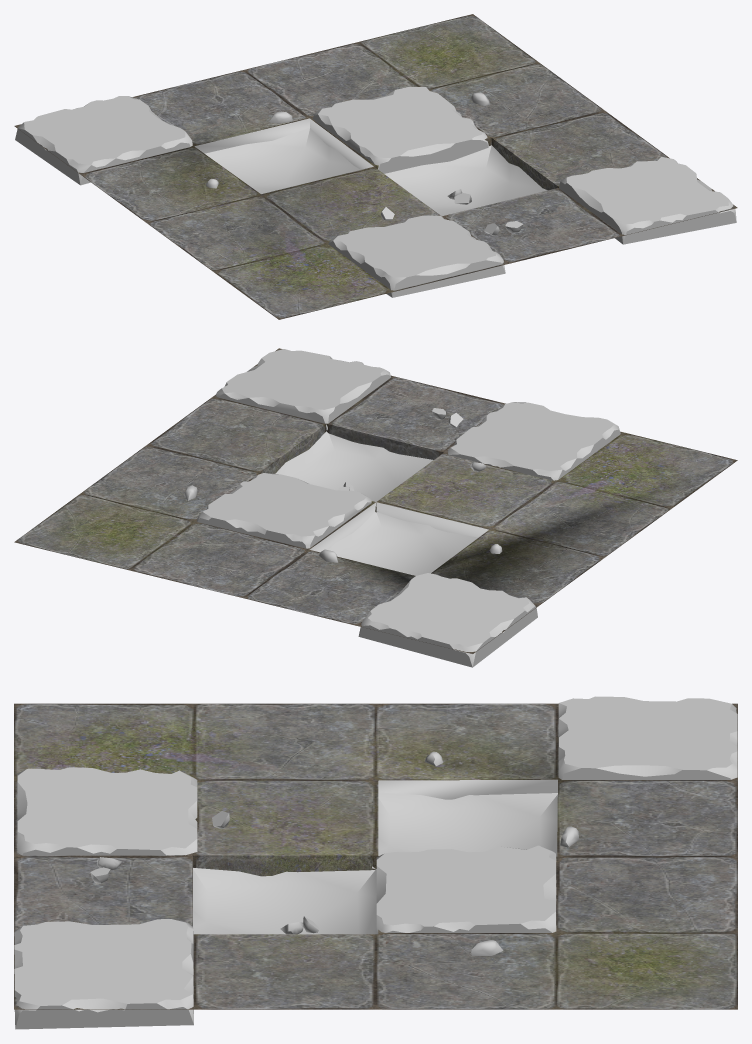
Rendered from Floor_Lvl2_9.fbx.
3 views of the same model, one above another, from view 1: azimuth 30°, elevation 25°; view 2: azimuth 150°, elevation 25°; view 3: azimuth 270°, elevation 25° (orthographic). The views are drawn at different scales.
Parts seen in each view (by area): view 1: StoneFloor.006; view 2: StoneFloor.006; view 3: StoneFloor.006.
Boxes of the visible parts, x1,y1,x2,y2 form: StoneFloor.006: [14, 14, 737, 319]; StoneFloor.006: [14, 348, 737, 667]; StoneFloor.006: [14, 696, 737, 1029].
Size of the model in its own units: 382 by 31.87 by 382.
